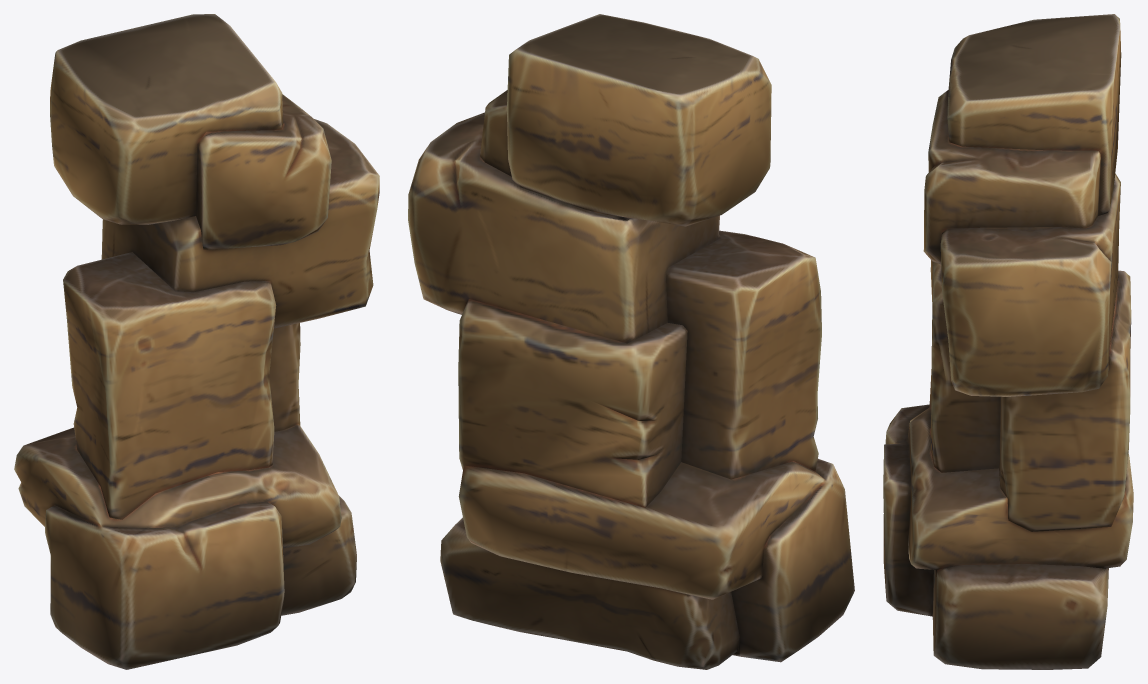
The model's file is SM_Gem_EyeOfTiger_005.fbx.
3 renders of one model, left to right at view 1: azimuth 30°, elevation 25°; view 2: azimuth 150°, elevation 25°; view 3: azimuth 270°, elevation 25°, orthographic. The views are drawn at different scales.
Parts seen in each view (by area): view 1: SM_Gem_EyeOfTiger_005; view 2: SM_Gem_EyeOfTiger_005; view 3: SM_Gem_EyeOfTiger_005.
Part boxes in pixels (x1,y1,x2,y2): SM_Gem_EyeOfTiger_005: (14, 14, 379, 669); SM_Gem_EyeOfTiger_005: (408, 14, 854, 669); SM_Gem_EyeOfTiger_005: (883, 14, 1133, 669).
Bounding box in the file's own units: 57.32 × 96.63 × 39.84.
